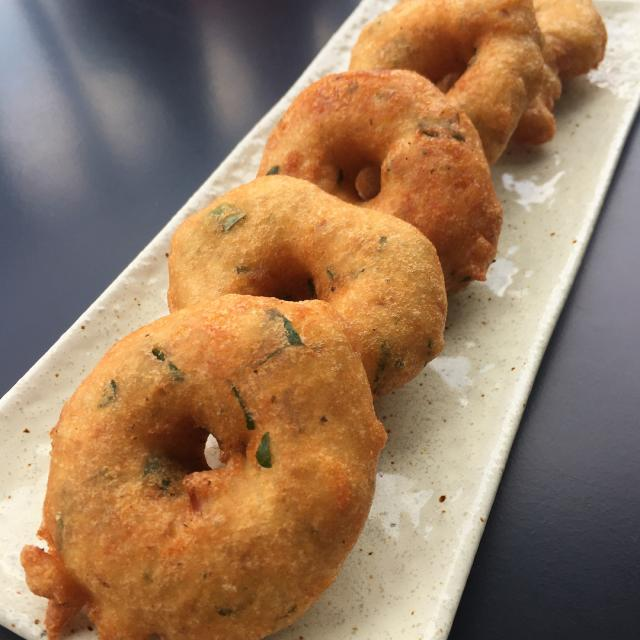Wet Waste: (83, 301, 370, 622), (177, 181, 440, 399), (258, 76, 494, 283), (354, 3, 562, 155)
